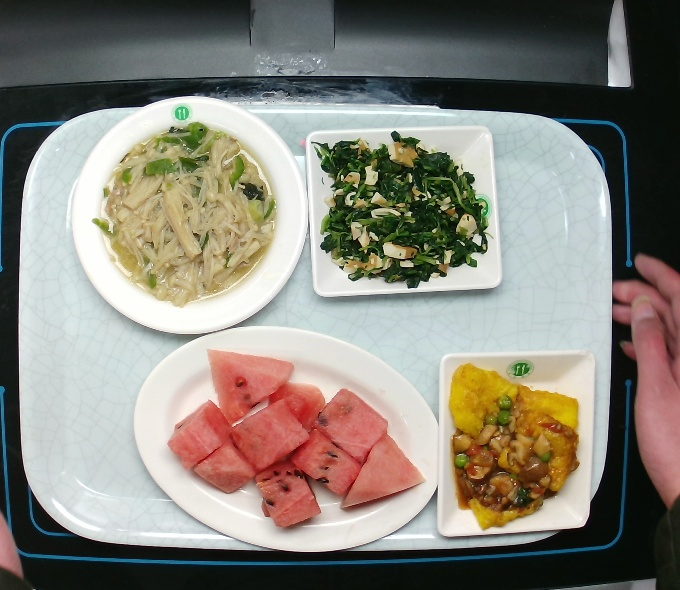wcq-CuiPiDouFu: (449, 360, 581, 529)
wcq-JinZhenGu: (99, 122, 277, 306)
wcq-MaLanTouChaoDouGan: (311, 133, 489, 287)
wcq-XiGua: (165, 349, 426, 527)
